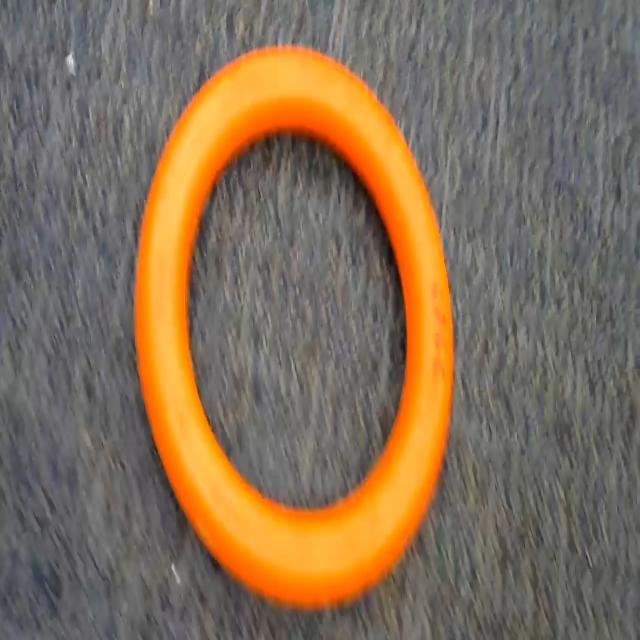note: (128, 31, 476, 614)
